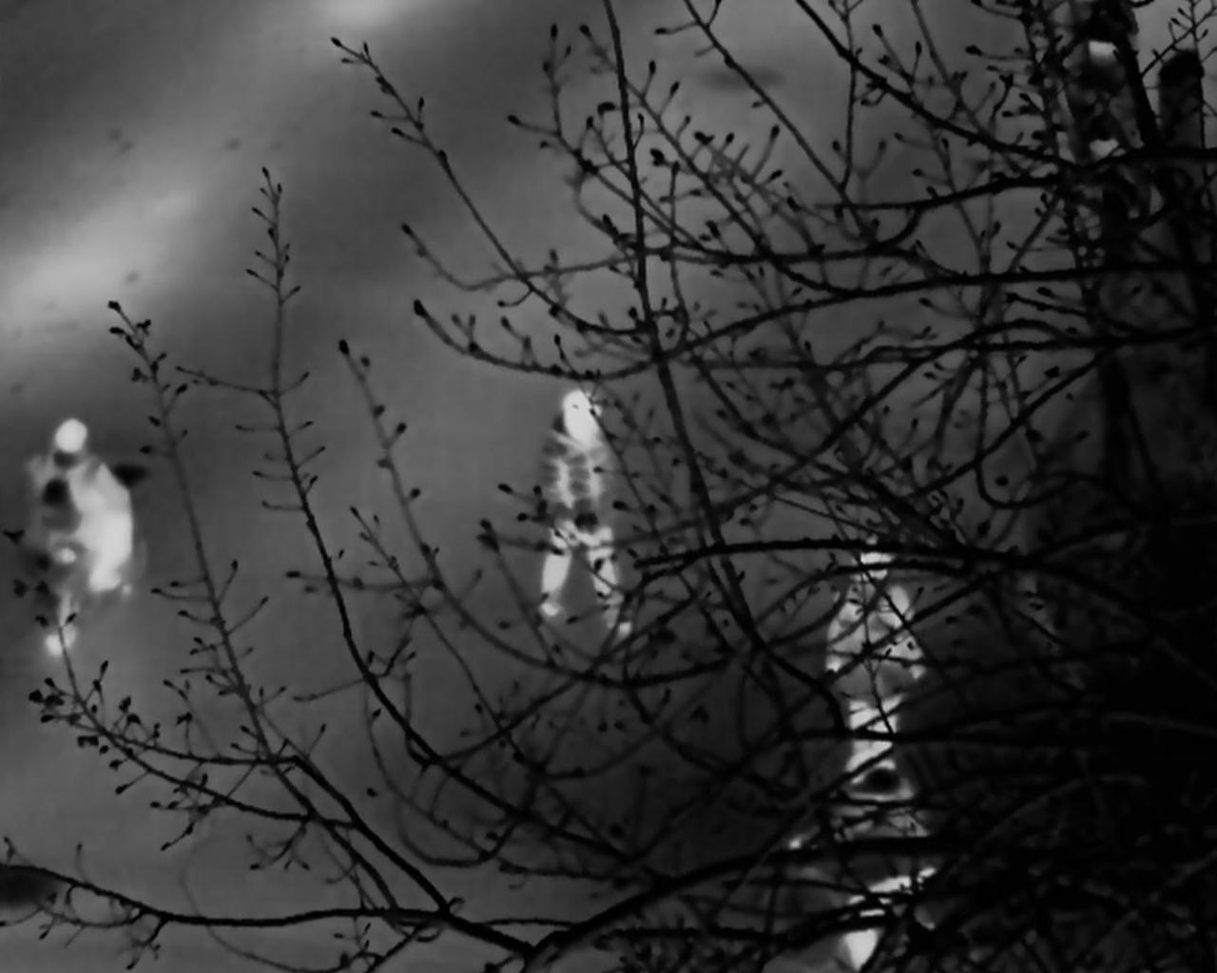person: (18, 419, 142, 613), (833, 555, 917, 787), (555, 390, 638, 619)
